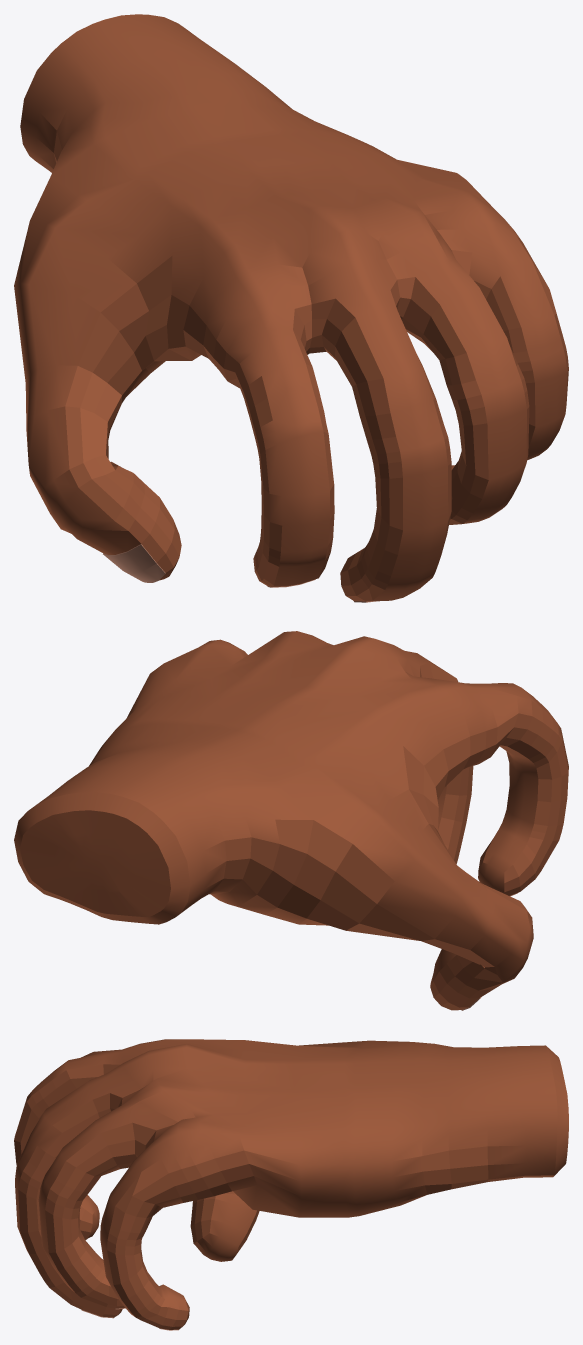
File: hand_left_closed.obj
3 renders of one model, top to bottom at view 1: azimuth 30°, elevation 25°; view 2: azimuth 150°, elevation 25°; view 3: azimuth 270°, elevation 25°, orthographic. The views are drawn at different scales.
Visible parts, largest first — view 1: Mesh; view 2: Mesh; view 3: Mesh.
Boxes of the visible parts, bbox=[...] form: Mesh: bbox=[14, 14, 568, 602]; Mesh: bbox=[14, 631, 568, 1010]; Mesh: bbox=[14, 1039, 568, 1330].
Bounding box in the file's own units: 1.36 × 1.05 × 1.95.
